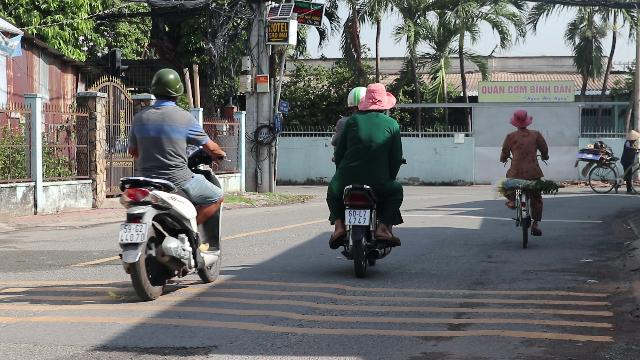helmet: (148, 67, 185, 105), (346, 86, 368, 115)
licenseplate: (118, 224, 146, 243), (346, 209, 368, 225)
motorcyclist: (114, 66, 230, 300), (320, 82, 408, 274)
nohelmet: (359, 82, 396, 114)
